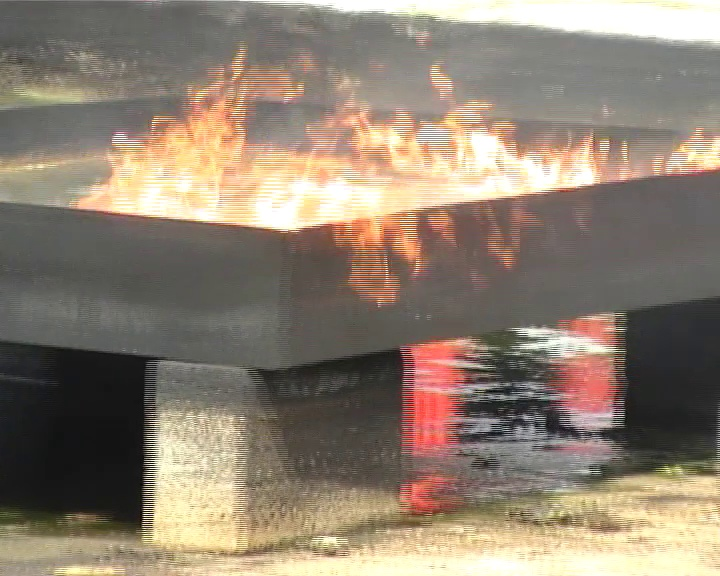fire: (96, 79, 596, 224), (663, 128, 720, 178)
